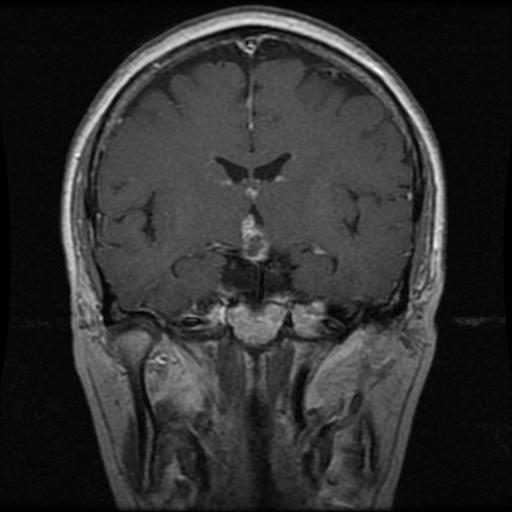Pituirity_tumour: (240, 216, 269, 256)
